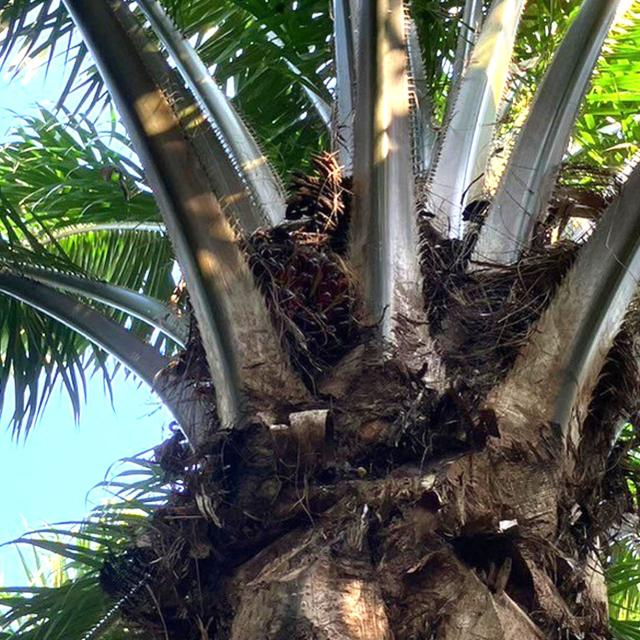ripe: (239, 223, 362, 352)
